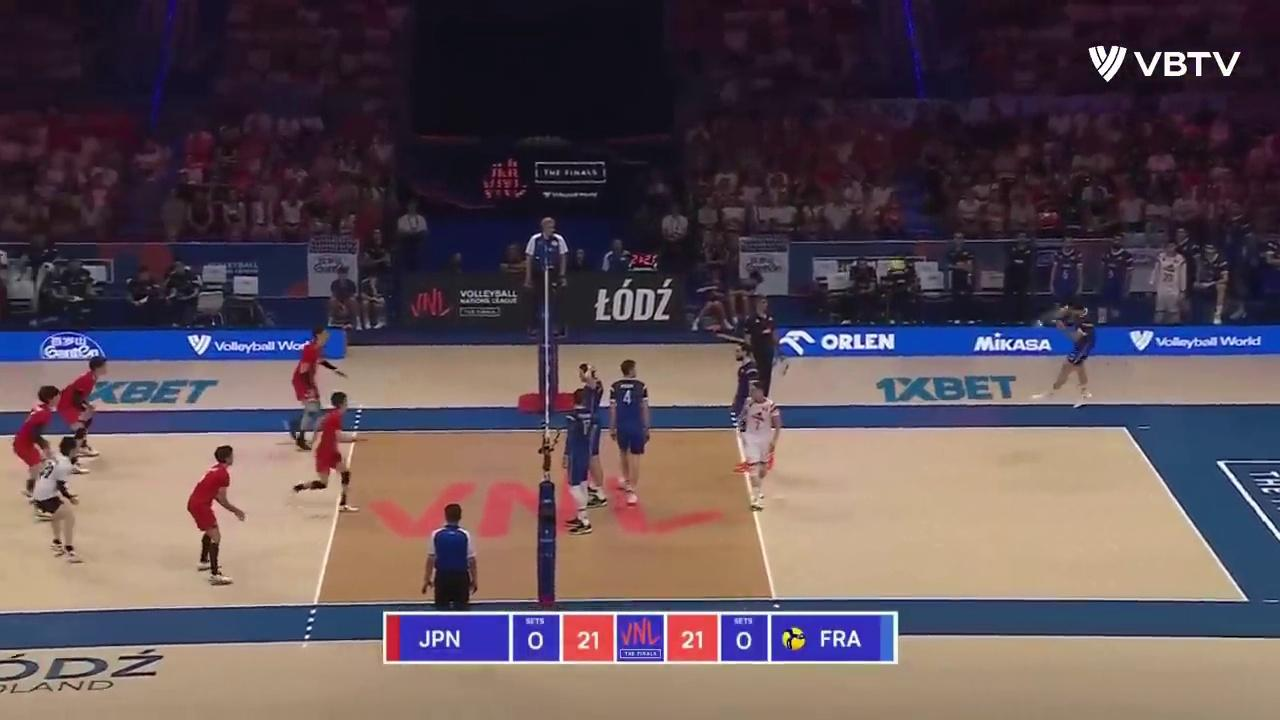ball: (887, 257, 907, 270)
